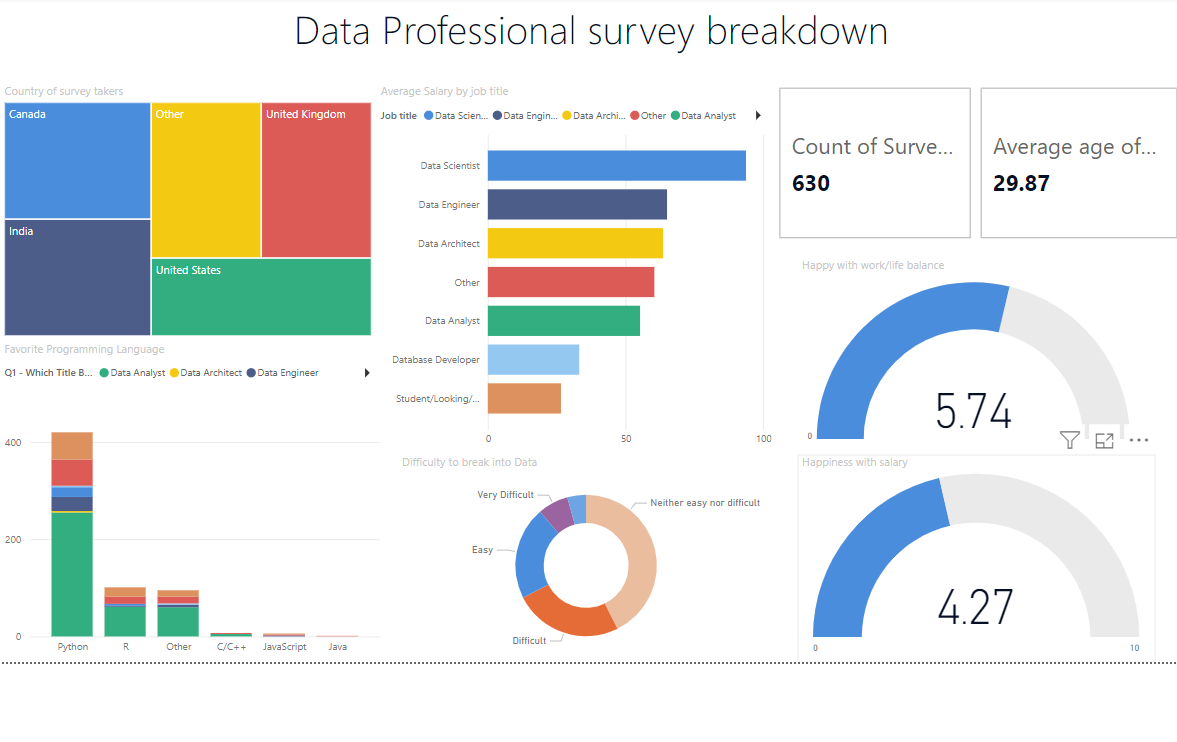

Layout of this report page (visuals, bound fields, positions):
{"tool":"powerbi","page":{"name":"Page 1","canvas":[1280,720],"ordinal":0},"visuals":[{"type":"textbox","box":[0,0,1280.3,78.5],"z":0},{"type":"cardVisual","fields":{"Data":["CountNonNull(Data Professional Survey.Unique ID)"]},"box":[839.1,93.4,217.9,173.2],"z":1},{"type":"cardVisual","fields":{"Data":["Avg(Data Professional Survey.Q10 - Current Age)"]},"box":[1057,93.4,223.3,173.2],"z":2},{"type":"barChart","title":"Average Salary by job title","fields":{"Category":["Data Professional Survey.Q1 - Which Title Best Fits your Current Role?.1"],"Y":["Avg(Data Professional Survey.Average Salary)"],"Series":["Data Professional Survey.Q1 - Which Title Best Fits your Current Role?.1"]},"box":[407.4,93.4,433.1,401.9],"z":3},{"type":"columnChart","title":"Favorite Programming Language","fields":{"Category":["Data Professional Survey.Q5 - Favorite Programming Language.1"],"Y":["CountNonNull(Data Professional Survey.Unique ID)"],"Series":["Data Professional Survey.Q1 - Which Title Best Fits your Current Role?.1"]},"box":[0,372.2,416.8,347.8],"z":4},{"type":"treemap","title":"Country of survey takers","fields":{"Values":["Count(Data Professional Survey.Q11 - Which Country do you live in?.1)"],"Group":["Data Professional Survey.Q11 - Which Country do you live in?.1"]},"box":[0,93.4,407.4,278.8],"z":5},{"type":"gauge","title":"Happy with work/life balance","fields":{"Y":["Avg(Data Professional Survey.Q6 - How Happy are you in your Current Position with the following? (Work/Life Balance))"],"MinValue":["Min(Data Professional Survey.Q6 - How Happy are you in your Current Position with the following? (Work/Life Balance))"],"MaxValue":["Max(Data Professional Survey.Q6 - How Happy are you in your Current Position with the following? (Work/Life Balance))1"]},"box":[863.4,281.5,387.1,213.8],"z":6},{"type":"gauge","title":"Happiness with salary","fields":{"Y":["Avg(Data Professional Survey.Q6 - How Happy are you in your Current Position with the following? (Salary))"],"MinValue":["Min(Data Professional Survey.Q6 - How Happy are you in your Current Position with the following? (Salary))"],"MaxValue":["Max(Data Professional Survey.Q6 - How Happy are you in your Current Position with the following? (Salary))"]},"box":[863.4,495.3,387.1,224.7],"z":7},{"type":"donutChart","title":"Difficulty to break into Data","fields":{"Category":["Data Professional Survey.Q7 - How difficult was it for you to break into Data?"],"Y":["CountNonNull(Data Professional Survey.Q7 - How difficult was it for you to break into Data?)"]},"box":[430.4,495.3,408.7,224.7],"z":8}]}

Visuals, with their boxes on the page's 1280x720 design canvas (x1, y1, x2, y2). These are canvas units, not pixel positions in the 1177x742 screenshot, which may show the page scaled, cropped or inside an application window:
textbox: {"left": 0, "top": 0, "right": 1280, "bottom": 78}
cardVisual - CountNonNull(Data Professional Survey.Unique ID): {"left": 839, "top": 93, "right": 1057, "bottom": 267}
cardVisual - Avg(Data Professional Survey.Q10 - Current Age): {"left": 1057, "top": 93, "right": 1280, "bottom": 267}
"Average Salary by job title" barChart: {"left": 407, "top": 93, "right": 840, "bottom": 495}
"Favorite Programming Language" columnChart: {"left": 0, "top": 372, "right": 417, "bottom": 720}
"Country of survey takers" treemap: {"left": 0, "top": 93, "right": 407, "bottom": 372}
"Happy with work/life balance" gauge: {"left": 863, "top": 282, "right": 1250, "bottom": 495}
"Happiness with salary" gauge: {"left": 863, "top": 495, "right": 1250, "bottom": 720}
"Difficulty to break into Data" donutChart: {"left": 430, "top": 495, "right": 839, "bottom": 720}
